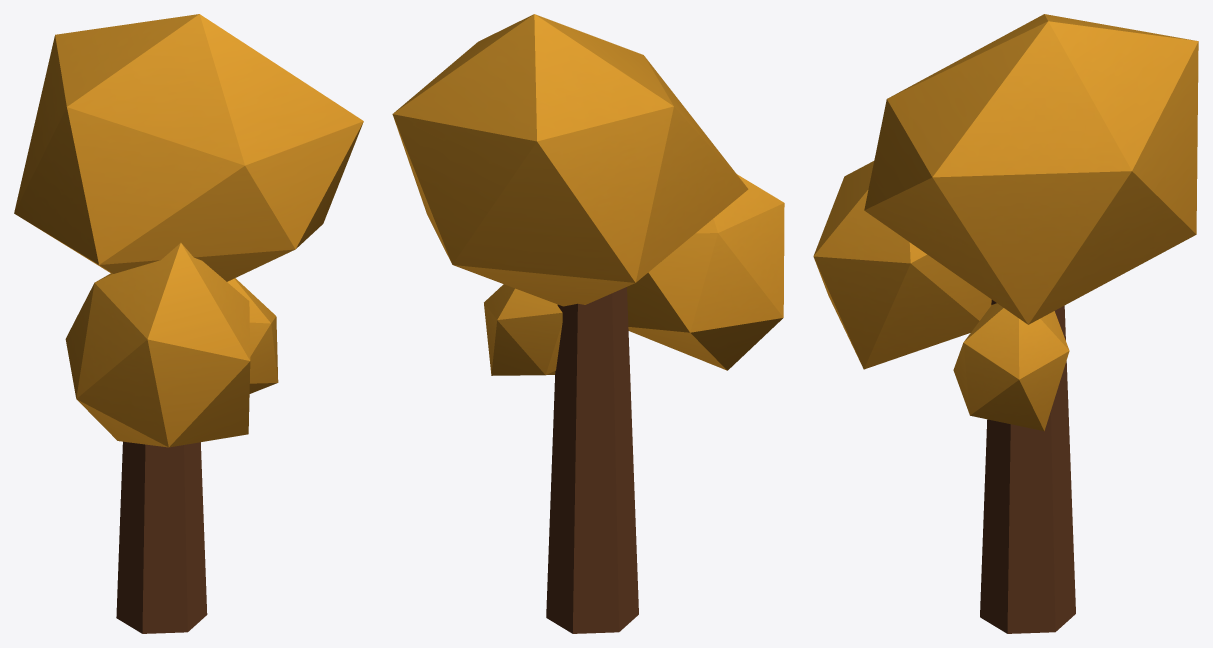
3 views of the same model, side by side, from view 1: azimuth 30°, elevation 25°; view 2: azimuth 150°, elevation 25°; view 3: azimuth 270°, elevation 25° (orthographic). The views are drawn at different scales.
Visible parts, largest first — view 1: DS_03; view 2: DS_03; view 3: DS_03.
Part boxes in pixels (bbox=[...]): DS_03: bbox=[14, 14, 363, 633]; DS_03: bbox=[392, 14, 784, 633]; DS_03: bbox=[813, 14, 1198, 633].
Size of the model in its own units: 1.05 by 1.98 by 1.11.
